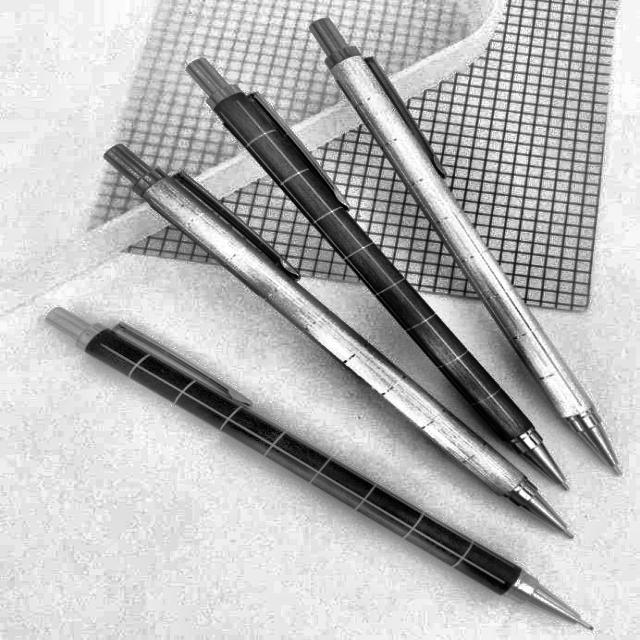Pen: (105, 148, 572, 538), (50, 311, 577, 619), (313, 19, 617, 470)
